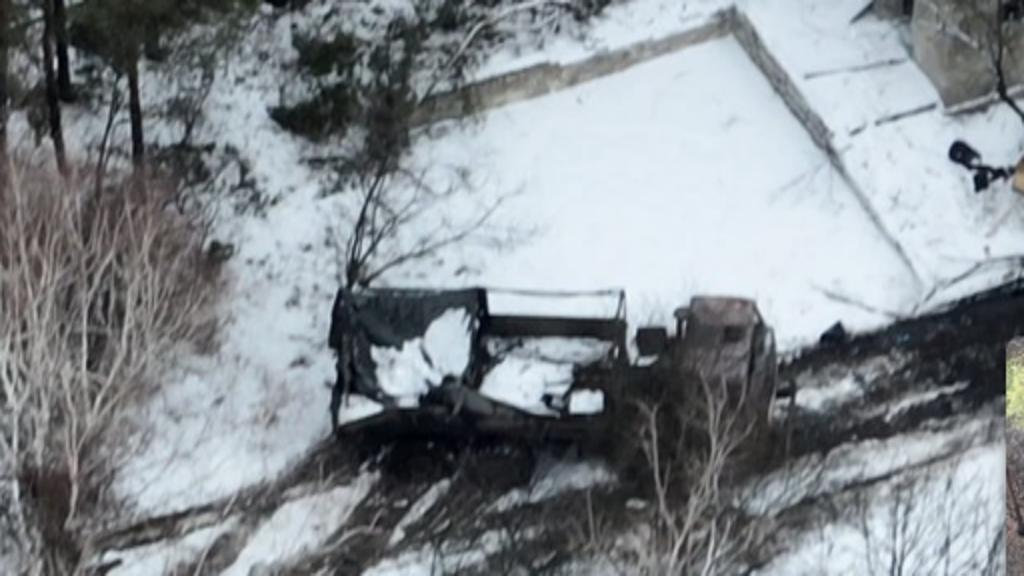TRUCK: (324, 273, 792, 475)
